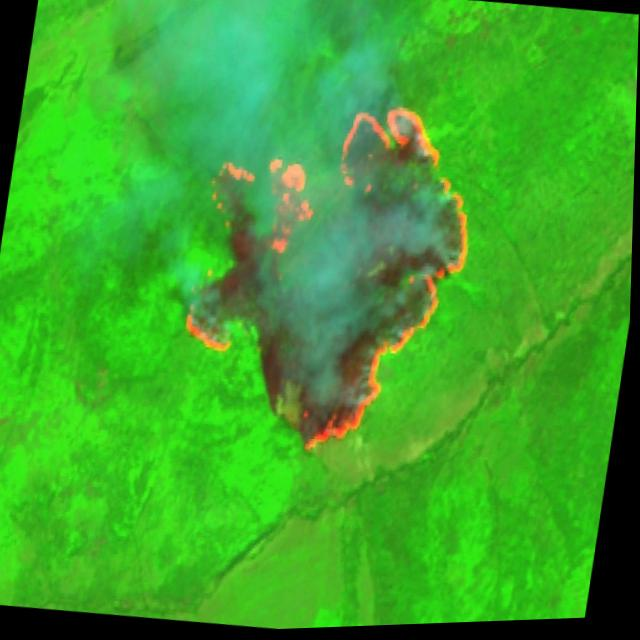fire: (159, 75, 494, 483)
